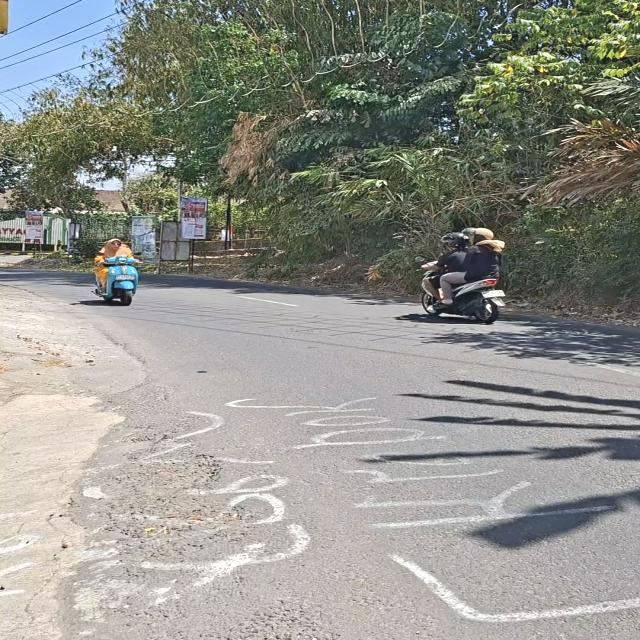WithHelmet: (438, 227, 506, 307), (419, 232, 471, 302)
WithoutHelmet: (94, 238, 138, 295)
